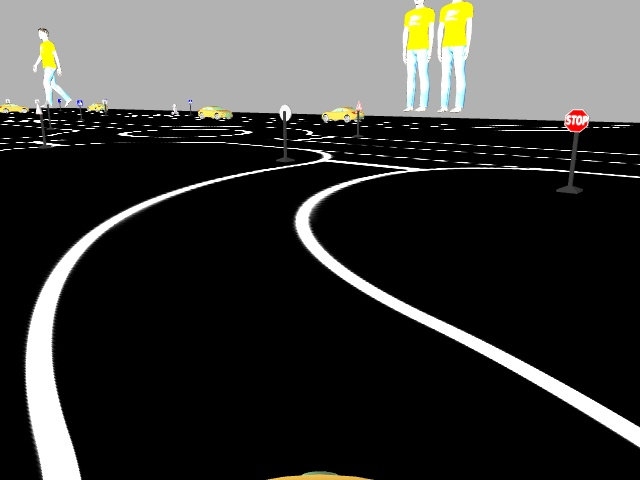Stop: (562, 106, 590, 132)
